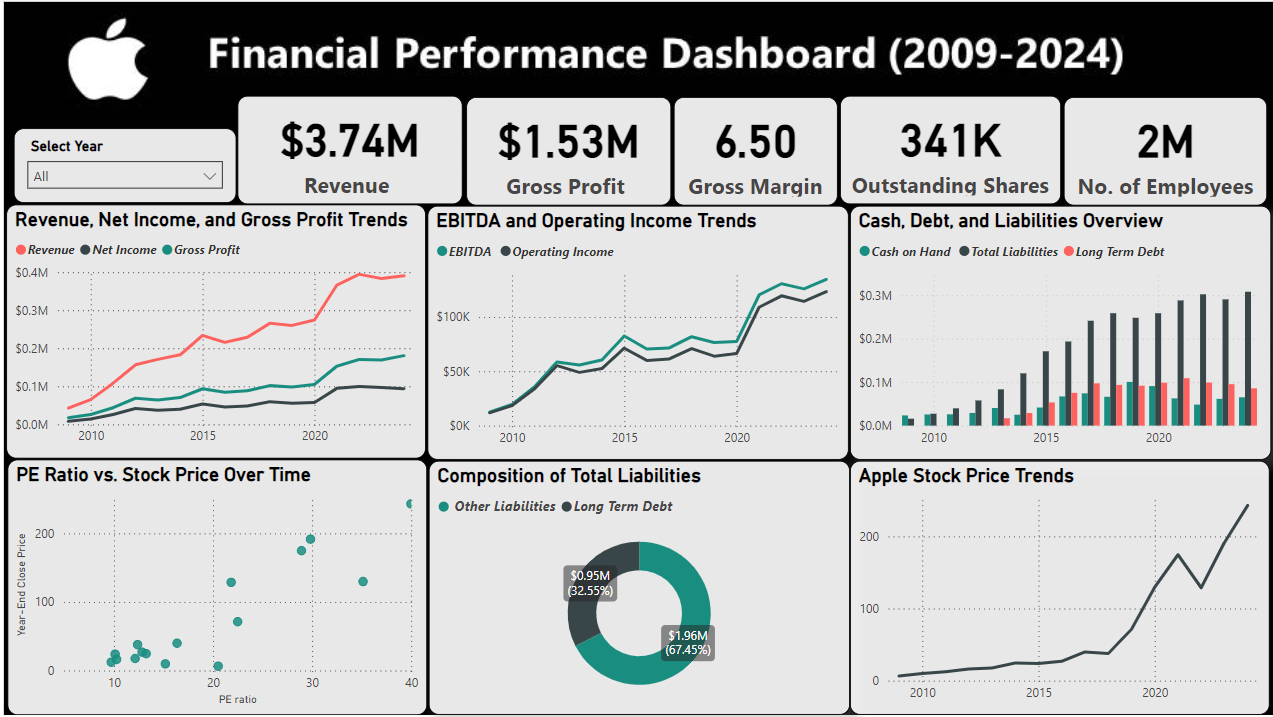

The dashboard page shown, as its layout file describes it:
{"tool":"powerbi","page":{"name":"Page 1","canvas":[1280,720],"ordinal":0},"visuals":[{"type":"image","box":[0,0,1280.3,720.4],"z":500},{"type":"lineChart","title":"Revenue, Net Income, and Gross Profit Trends","fields":{"Category":["Apple finance.year"],"Y":["Sum(Apple finance.Revenue (millions))","Sum(Apple finance.Net Income (millions))","Sum(Apple finance.Gross Profit (millions))"]},"box":[11.2,206.5,418,253],"z":1000},{"type":"lineChart","title":"EBITDA and Operating Income Trends","fields":{"Category":["Apple finance.year"],"Y":["Sum(Apple finance.EBITDA (millions))","Sum(Apple finance.Operating Income (millions))"]},"box":[430.4,207.7,419.2,253],"z":2000},{"type":"clusteredColumnChart","title":"Cash, Debt, and Liabilities Overview","fields":{"Category":["Apple finance.year"],"Y":["Sum(Apple finance.Cash on Hand (millions))","Sum(Apple finance.Total Liabilities (millions))","Sum(Apple finance.Long Term Debt (millions))"]},"box":[850.9,207.7,419.2,253],"z":3000},{"type":"donutChart","title":"Composition of Total Liabilities","fields":{"Y":["Sum(Apple finance.Other Liabilities)","Sum(Apple finance.Long Term Debt (millions))"]},"box":[431.7,461.5,419.2,252.5],"z":4000},{"type":"lineChart","title":"Apple Stock Price Trends","fields":{"Category":["Apple finance.year"],"Y":["Sum(Apple finance.Year Close Price)"]},"box":[850.9,461.5,418,253],"z":5000},{"type":"card","fields":{"Values":["Sum(Apple finance.Revenue (millions))"]},"box":[241.3,98.3,223.9,108.2],"z":6000},{"type":"card","fields":{"Values":["Sum(Apple finance.Gross Profit (millions))"]},"box":[469,99.5,204,108.2],"z":7000},{"type":"card","fields":{"Values":["Sum(Apple finance.Shares Outstanding)"]},"box":[840.9,99.5,220.2,108.2],"z":8000},{"type":"card","fields":{"Values":["Sum(Apple finance.Gross Margin)"]},"box":[675.5,99.5,163,108.2],"z":9000},{"type":"slicer","fields":{"Values":["Apple finance.year"]},"box":[18.7,130.6,221.4,74.6],"z":10000},{"type":"card","fields":{"Values":["Sum(Apple finance.Employees)"]},"box":[1063.6,99.5,202.8,108.2],"z":11000},{"type":"scatterChart","title":"PE Ratio vs. Stock Price Over Time","fields":{"X":["Sum(Apple finance.PE ratio)"],"Y":["Sum(Apple finance.Year Close Price)"],"Category":["Apple finance.year"]},"box":[12.4,460.3,418,254],"z":12000}]}

Visuals, with their boxes in screenshot pixels (x1, y1, x2, y2), scaled from the page's 1280x720 canvas onto the 1273x717 screenshot:
image: (left=0, top=0, right=1272, bottom=716)
"Revenue, Net Income, and Gross Profit Trends" lineChart: (left=11, top=206, right=427, bottom=458)
"EBITDA and Operating Income Trends" lineChart: (left=428, top=207, right=845, bottom=459)
"Cash, Debt, and Liabilities Overview" clusteredColumnChart: (left=846, top=207, right=1263, bottom=459)
"Composition of Total Liabilities" donutChart: (left=429, top=460, right=846, bottom=711)
"Apple Stock Price Trends" lineChart: (left=846, top=460, right=1262, bottom=712)
card - Sum(Apple finance.Revenue (millions)): (left=240, top=98, right=463, bottom=206)
card - Sum(Apple finance.Gross Profit (millions)): (left=466, top=99, right=669, bottom=207)
card - Sum(Apple finance.Shares Outstanding): (left=836, top=99, right=1055, bottom=207)
card - Sum(Apple finance.Gross Margin): (left=672, top=99, right=834, bottom=207)
slicer - Apple finance.year: (left=19, top=130, right=239, bottom=204)
card - Sum(Apple finance.Employees): (left=1058, top=99, right=1259, bottom=207)
"PE Ratio vs. Stock Price Over Time" scatterChart: (left=12, top=458, right=428, bottom=711)
